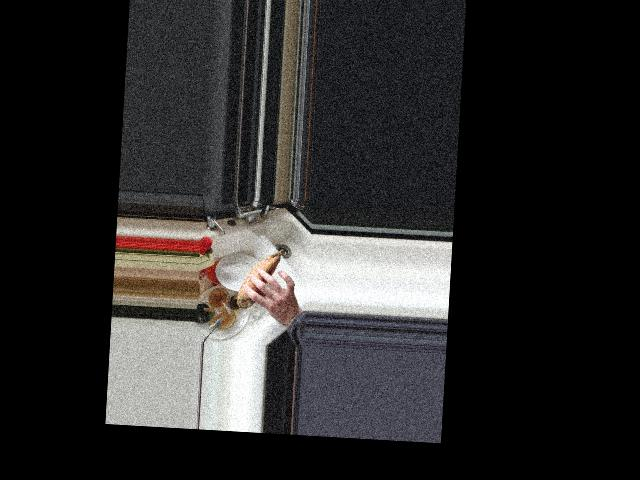sweet_potato: (236, 246, 284, 310)
